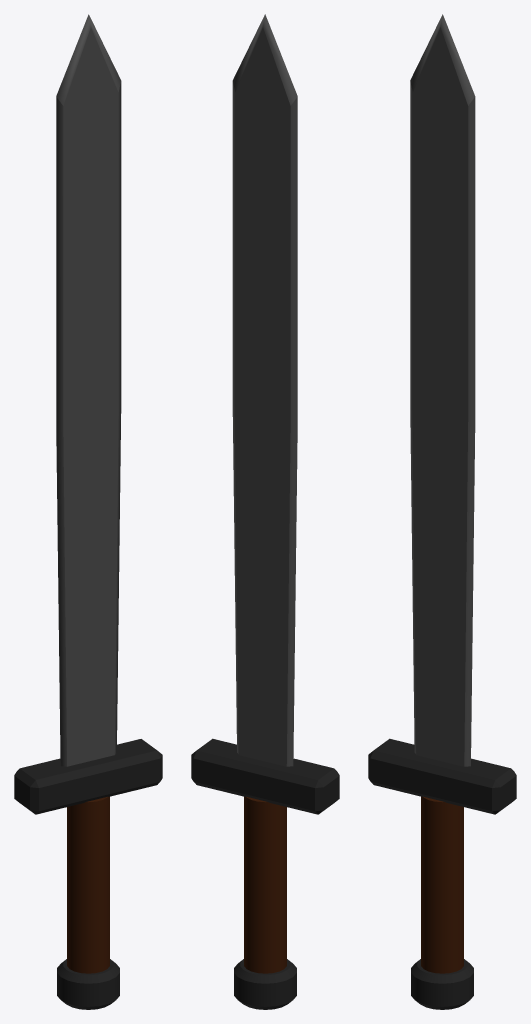
Rendered from SverdTest.FBX.
The picture shows the model from 3 angles, left to right: view 1: azimuth 30°, elevation 25°; view 2: azimuth 150°, elevation 25°; view 3: azimuth 330°, elevation 25°; orthographic projection.
Visible parts, largest first — view 1: Box001, Cylinder001, Box002, Cylinder002; view 2: Box001, Cylinder001, Box002, Cylinder002; view 3: Box001, Cylinder001, Box002, Cylinder002.
Part boxes in pixels (x1,y1,x2,y2): Box001: (56,14,121,766); Cylinder001: (67,796,109,973); Box002: (14,739,162,814); Cylinder002: (57,959,119,1009); Box001: (232,14,297,766); Cylinder001: (244,796,286,973); Box002: (191,738,339,814); Cylinder002: (234,959,296,1009); Box001: (410,14,475,766); Cylinder001: (421,796,463,973); Box002: (368,738,516,814); Cylinder002: (411,959,473,1009).
Bounding box in the file's own units: 4.72 × 33.52 × 1.94.
